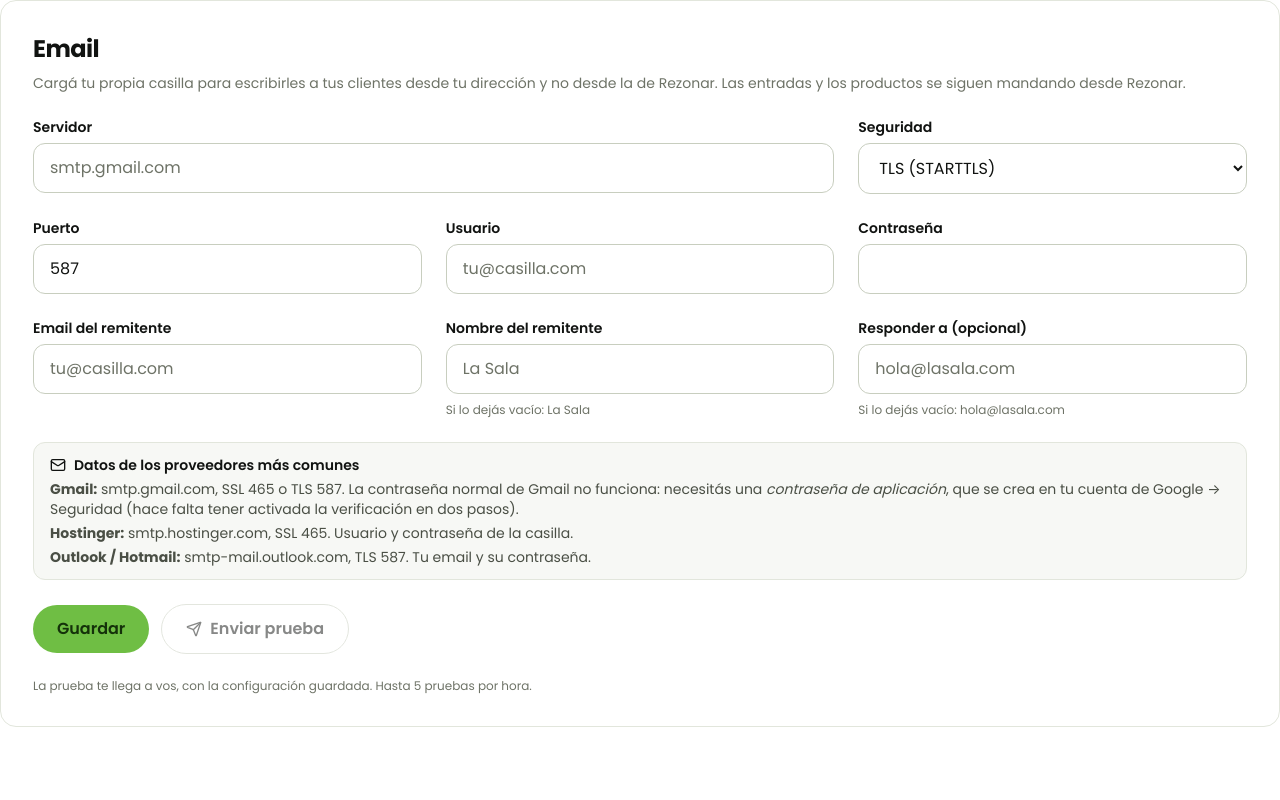
Test: SeccionEmail › al elegir la seguridad sugiere el puerto
The width and height of the screenshot is (1280, 800).
Select "SSL" in the dropdown labelled "Seguridad" at (1053, 168), box top-left (858, 143), bottom-right (1247, 194)
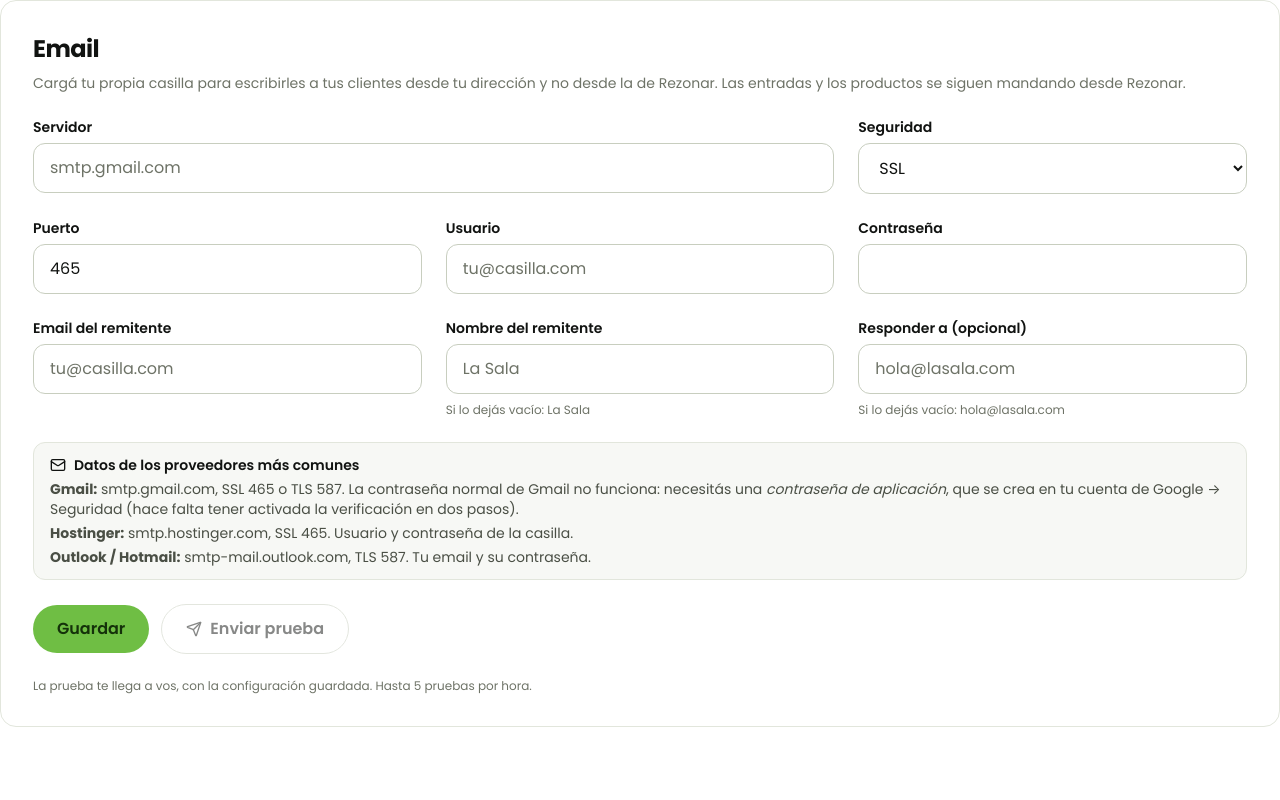
Check: the number field labelled "Puerto" holds "465", box top-left (33, 244), bottom-right (422, 294)
Select "TLS (STARTTLS)" in the dropdown labelled "Seguridad" at (1053, 168), box top-left (858, 143), bottom-right (1247, 194)
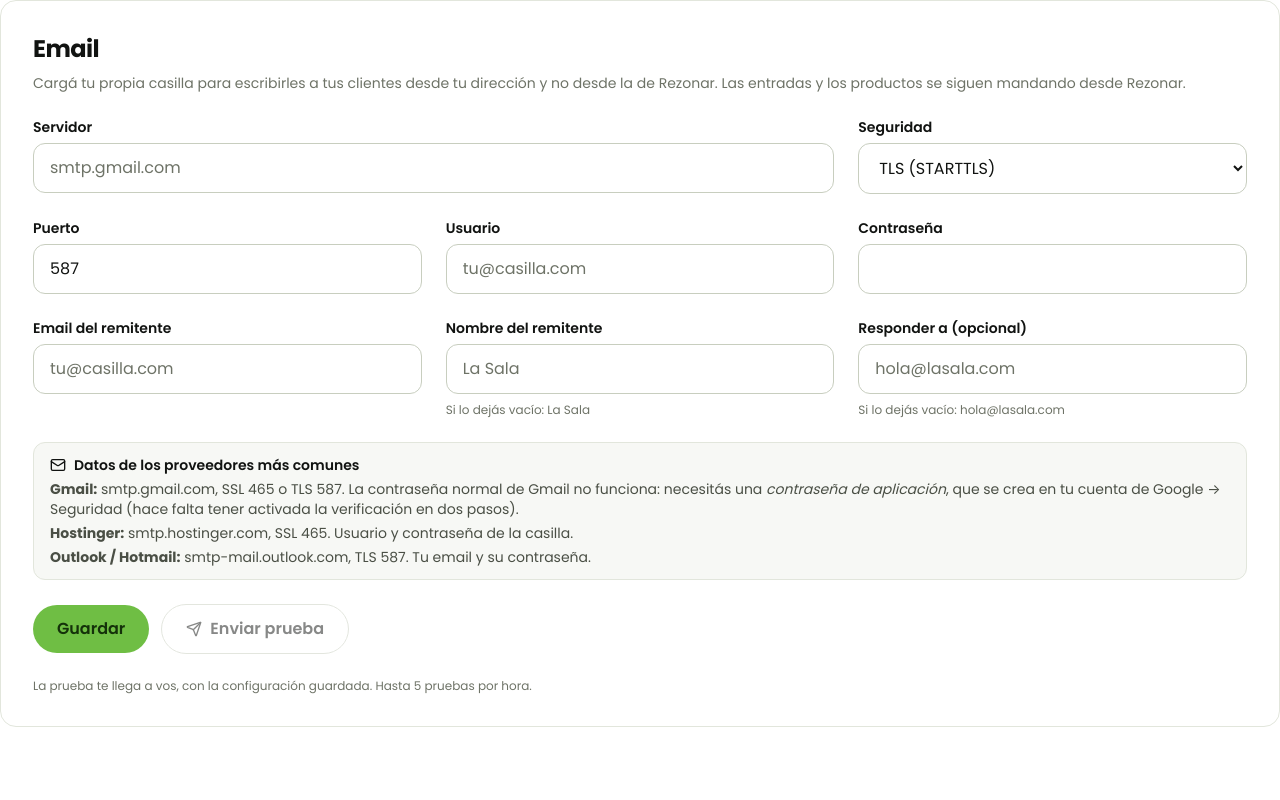
Check: the number field labelled "Puerto" holds "587", box top-left (33, 244), bottom-right (422, 294)
